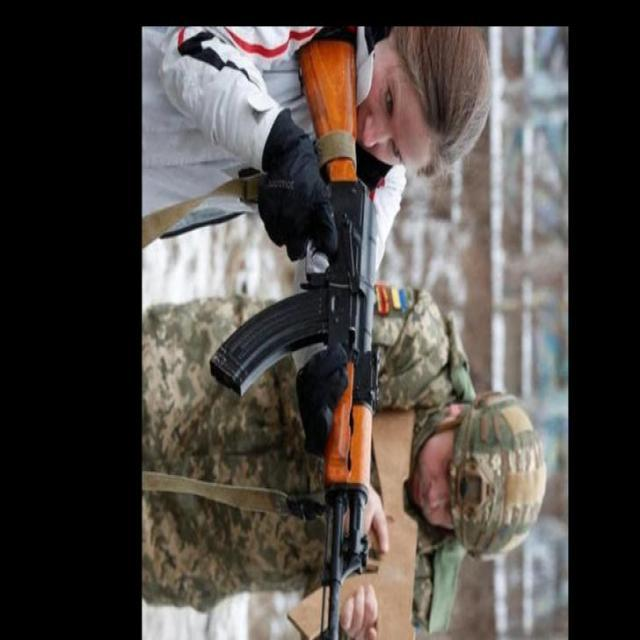weapon: (210, 30, 380, 640), (287, 403, 418, 640)
